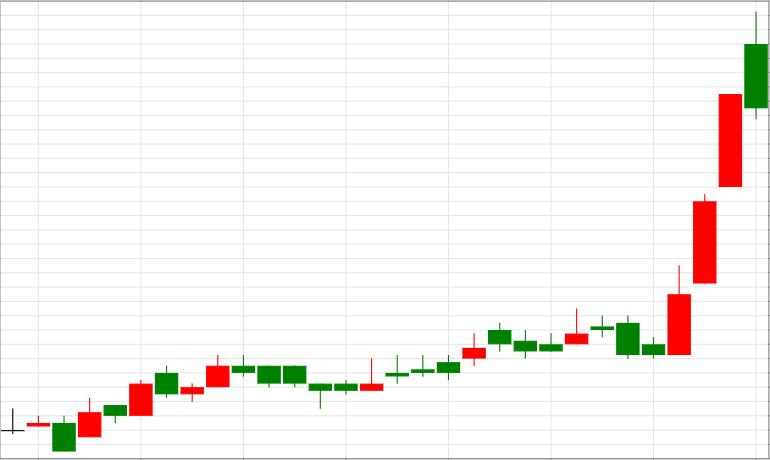three_white_soldiers_rise: (591, 95, 741, 360)
